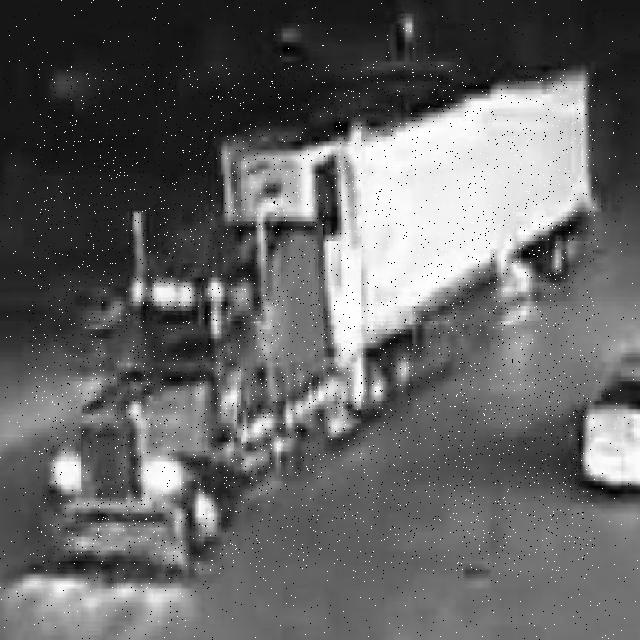Box Truck: (32, 64, 595, 572)
